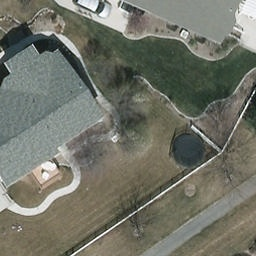car: (71, 0, 114, 23)
